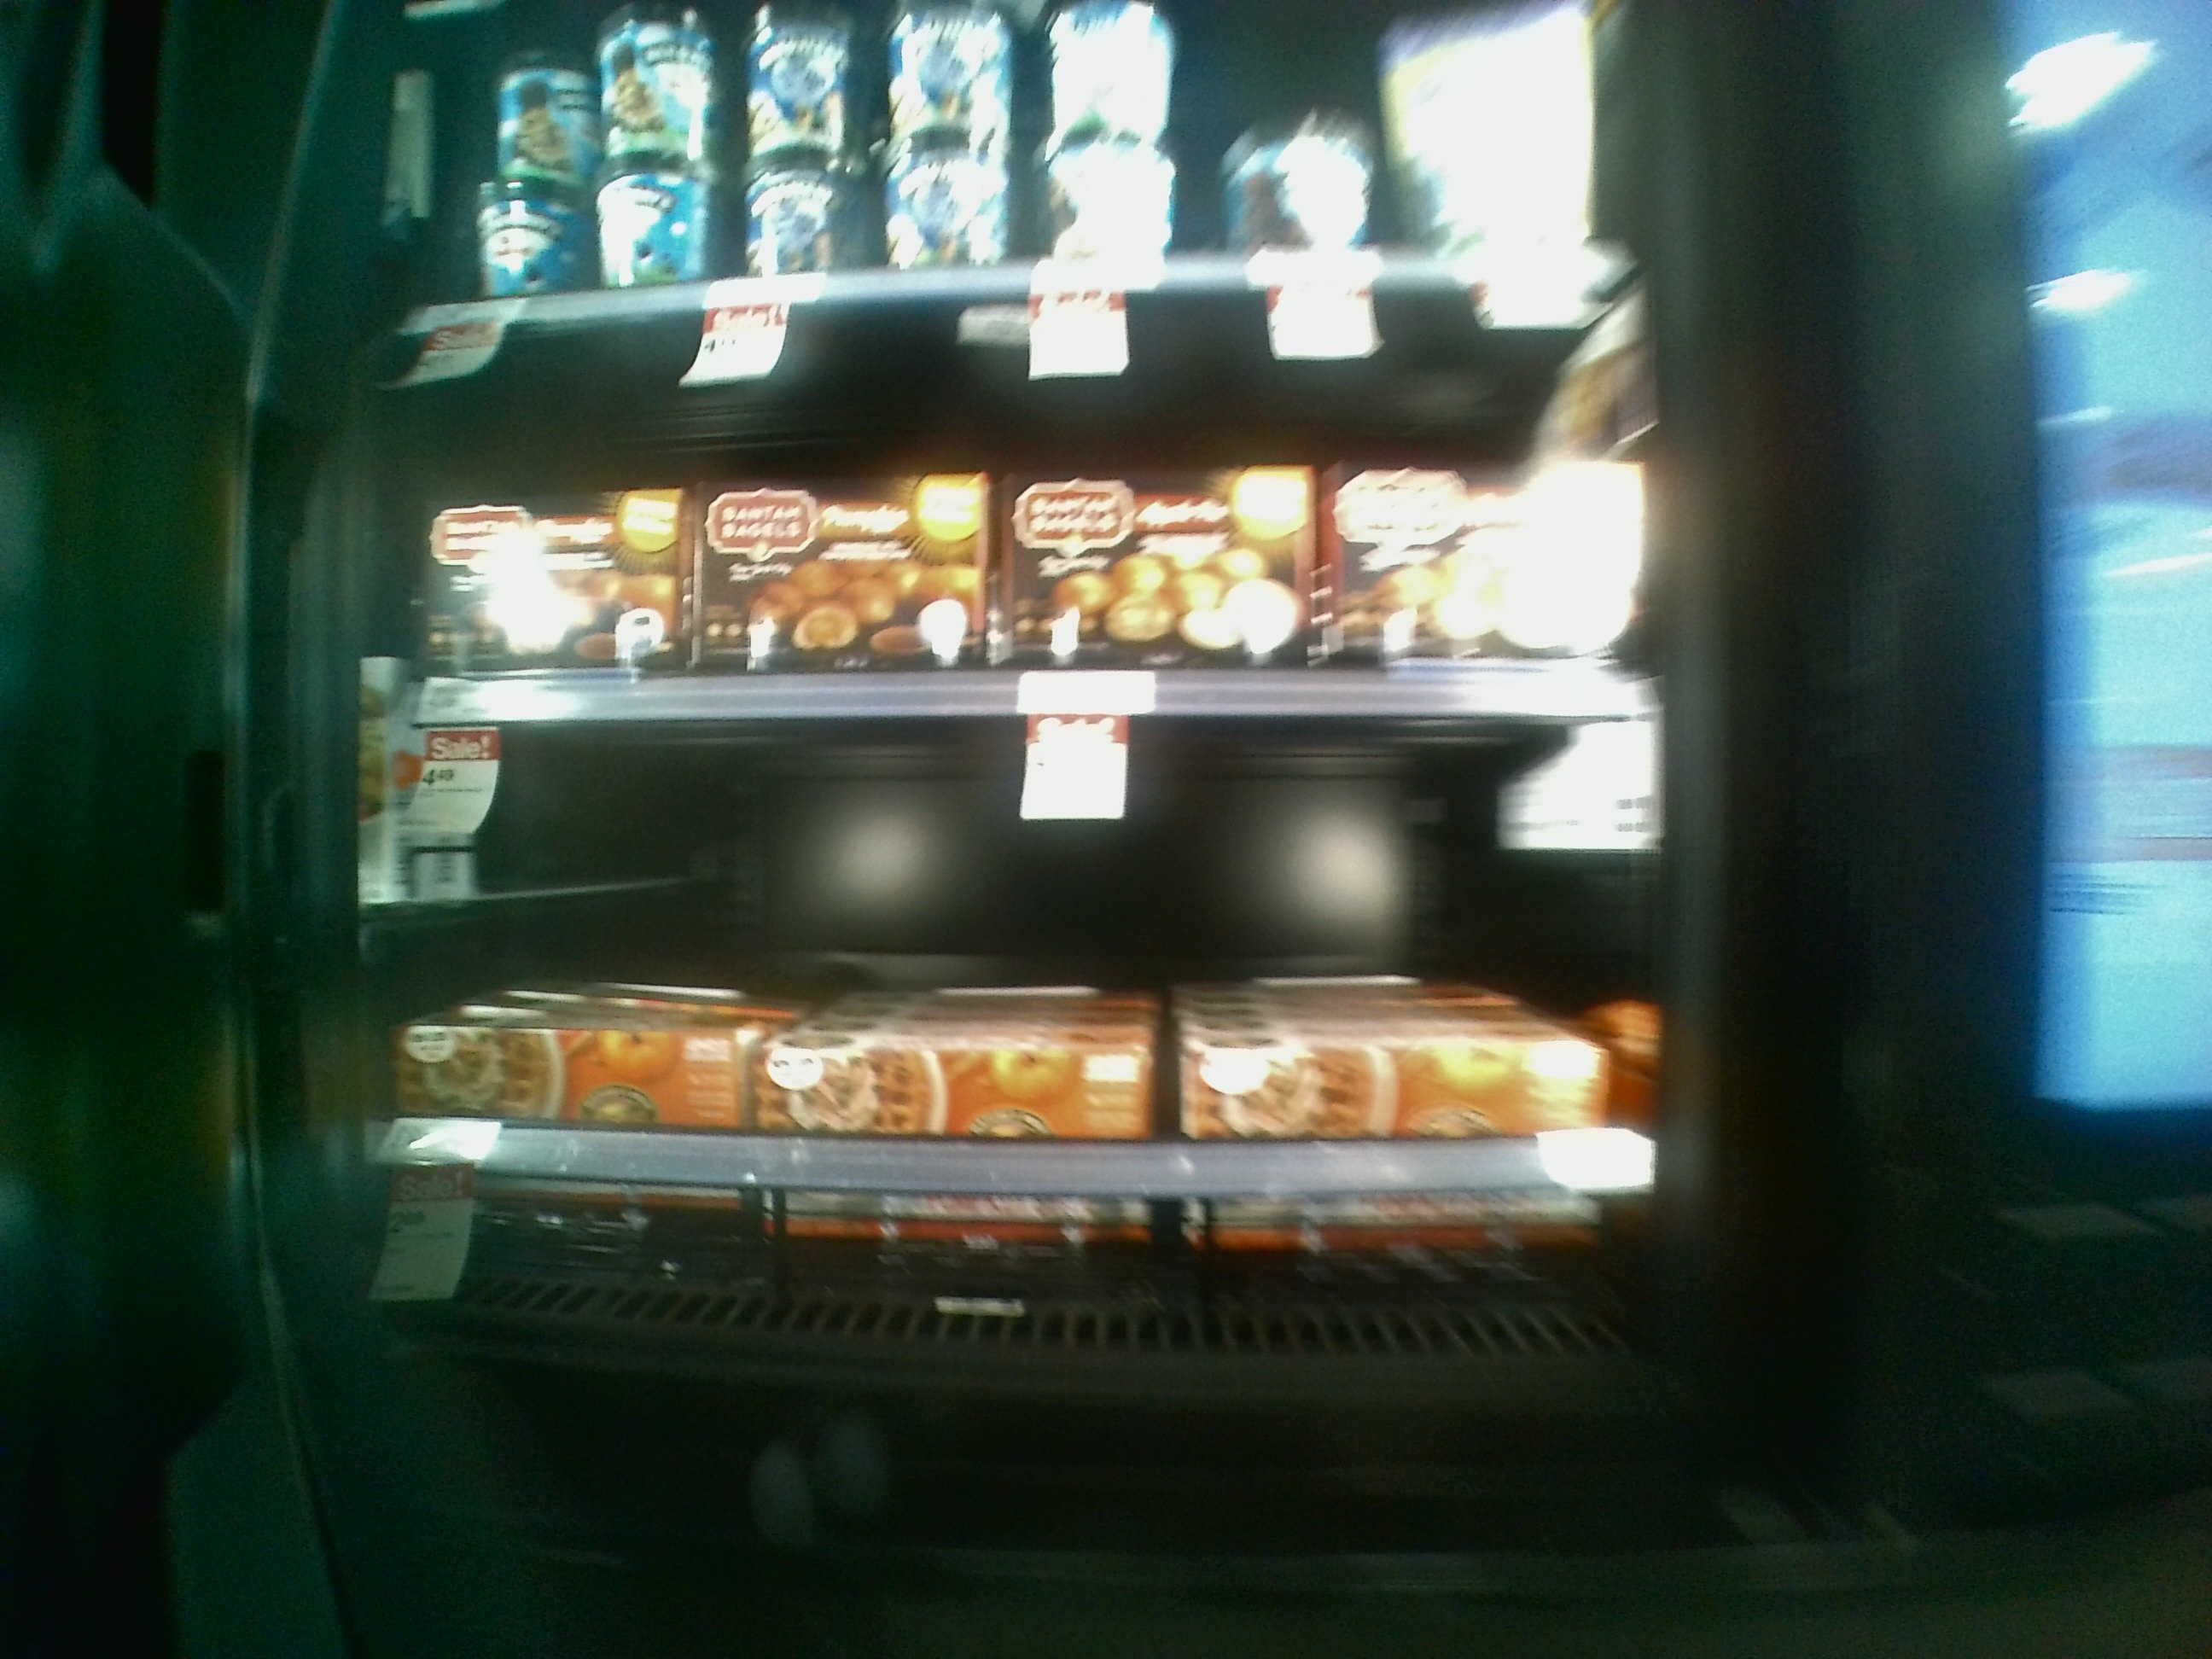shelf: (350, 680, 1679, 1378), (376, 303, 1683, 730)
